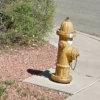Hydrant: (45, 14, 85, 89)
